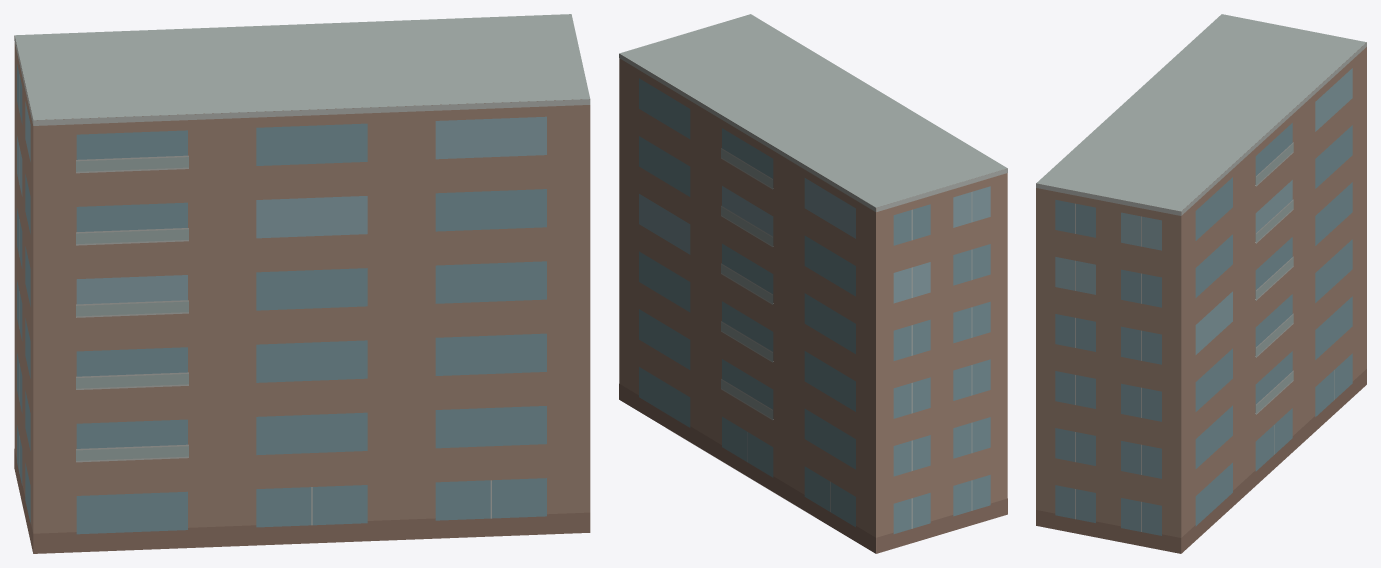
The model's file is survey-upis-32951444.glb.
3 views of the same model, side by side, from view 1: azimuth 30°, elevation 25°; view 2: azimuth 150°, elevation 25°; view 3: azimuth 270°, elevation 25° (orthographic). The views are drawn at different scales.
Parts seen in each view (by area): view 1: survey-upis-32951444.tmp; view 2: survey-upis-32951444.tmp; view 3: survey-upis-32951444.tmp.
Boxes of the visible parts, x1,y1,x2,y2 form: survey-upis-32951444.tmp: [14, 14, 590, 553]; survey-upis-32951444.tmp: [619, 14, 1007, 553]; survey-upis-32951444.tmp: [1036, 14, 1366, 553].
Size of the model in its own units: 22.64 by 18.3 by 16.03.
